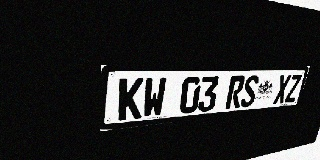0: (179, 76, 202, 114)
3: (197, 76, 220, 112)
K: (118, 78, 144, 121)
R: (225, 76, 246, 109)
S: (240, 75, 260, 108)
W: (142, 77, 167, 118)
X: (273, 75, 291, 104)
Z: (284, 74, 302, 103)
